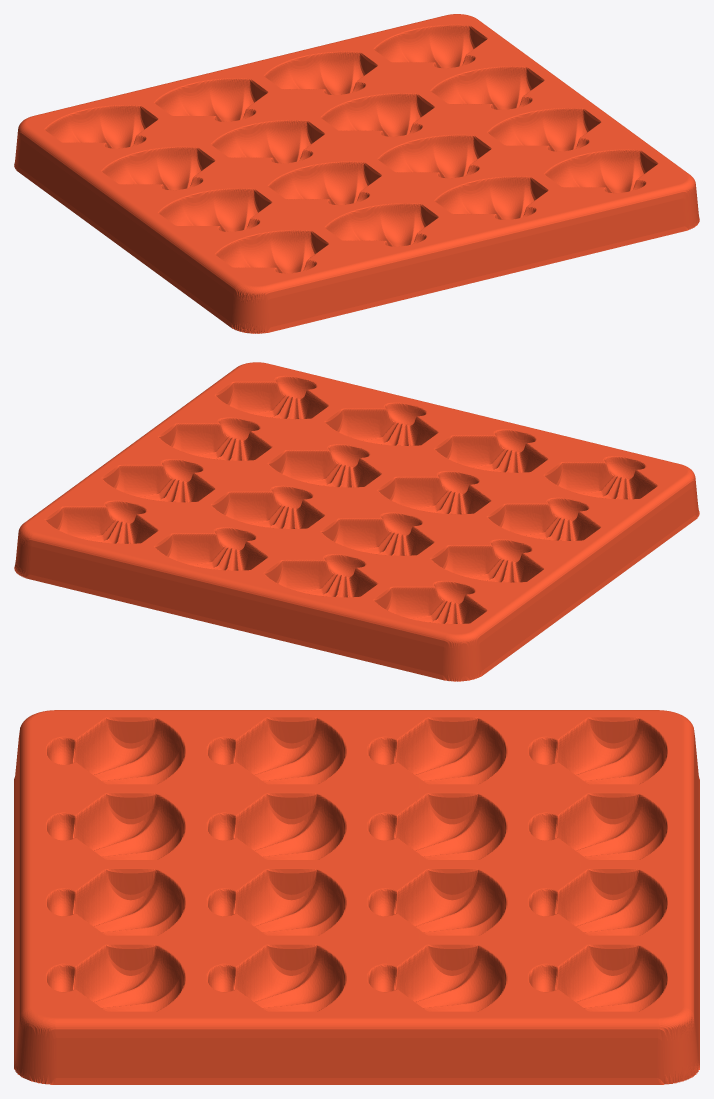
File: mold.glb
The picture shows the model from 3 angles, top to bottom: view 1: azimuth 30°, elevation 25°; view 2: azimuth 150°, elevation 25°; view 3: azimuth 270°, elevation 25°; orthographic projection. The views are drawn at different scales.
Parts seen in each view (by area): view 1: geometry_0; view 2: geometry_0; view 3: geometry_0.
Boxes of the visible parts, <box> form: geometry_0: <box>14,14,699,333</box>; geometry_0: <box>14,362,699,681</box>; geometry_0: <box>14,710,699,1084</box>.
Size of the model in its own units: 0.1611 by 0.014 by 0.1454.
